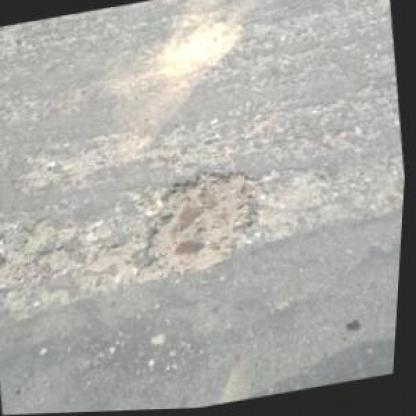pothole: (130, 160, 280, 287), (0, 212, 80, 291)
